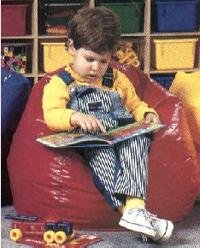person: (43, 7, 174, 245)
